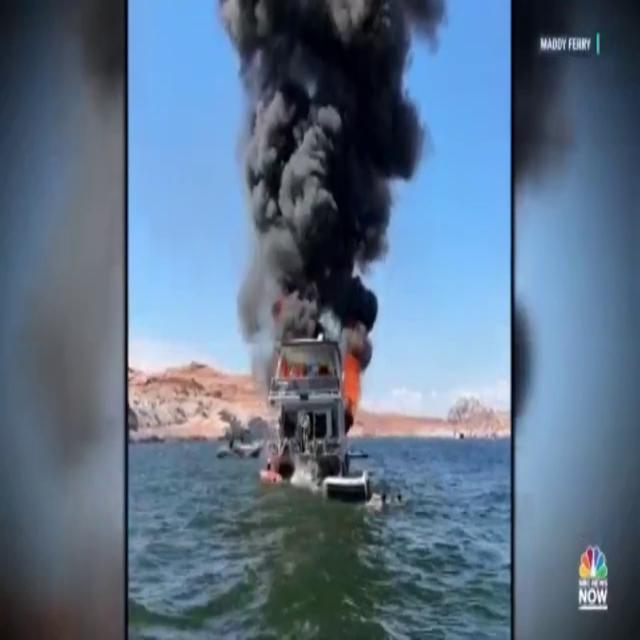Fire: (340, 350, 363, 422)
Smoke: (223, 0, 446, 339)
